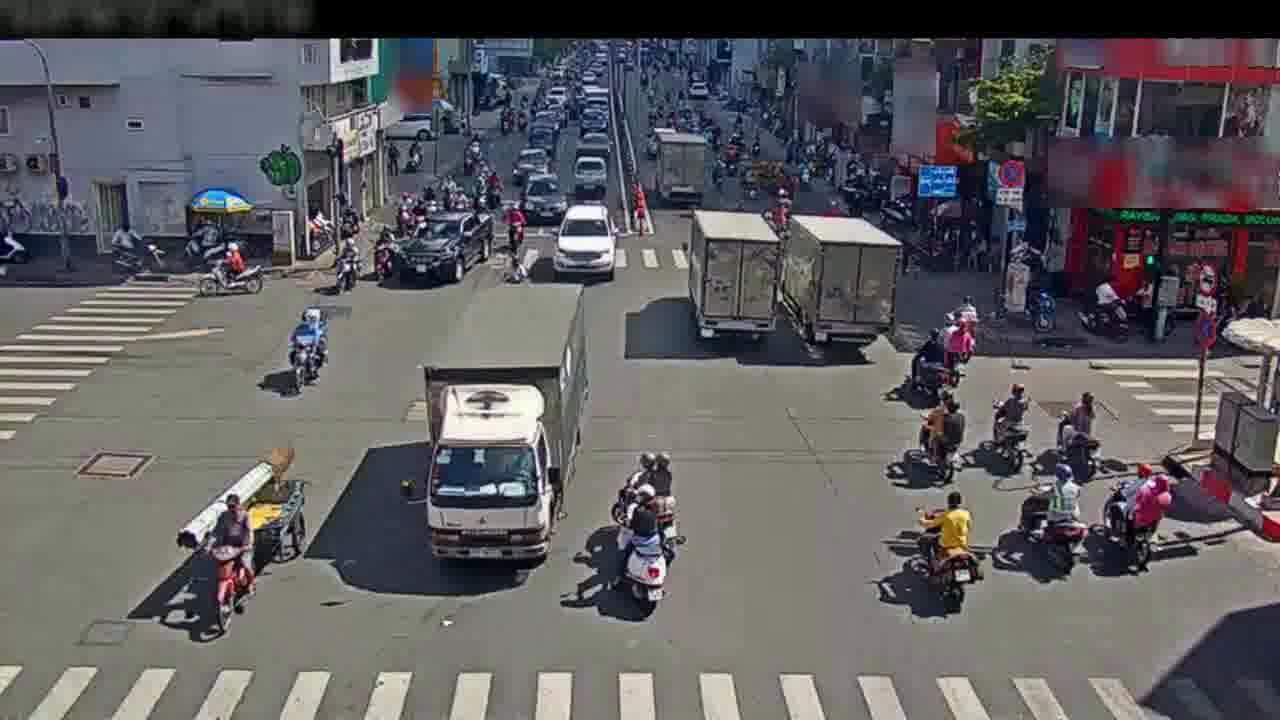8: (408, 309, 580, 581), (785, 213, 902, 347), (690, 208, 786, 336), (657, 129, 711, 208)
container: (395, 211, 492, 287), (553, 203, 618, 282), (521, 177, 566, 226)
motorbike: (902, 483, 985, 606), (612, 451, 685, 561), (1103, 459, 1165, 573), (1023, 457, 1082, 574), (613, 480, 662, 617), (906, 320, 971, 404), (910, 385, 963, 488), (1054, 387, 1100, 486), (199, 234, 264, 300), (989, 376, 1032, 474), (291, 300, 328, 395), (330, 231, 363, 303), (366, 222, 403, 286), (499, 209, 526, 248), (953, 297, 975, 344), (498, 256, 524, 277)
